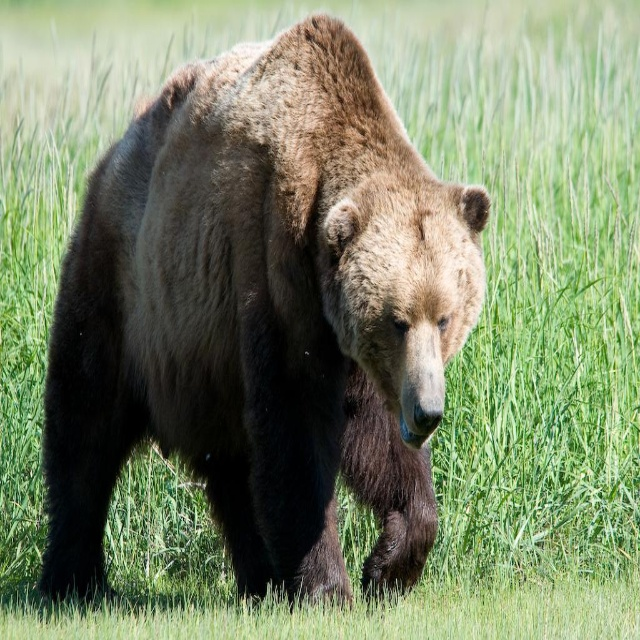Brown bear: (36, 13, 493, 621)
